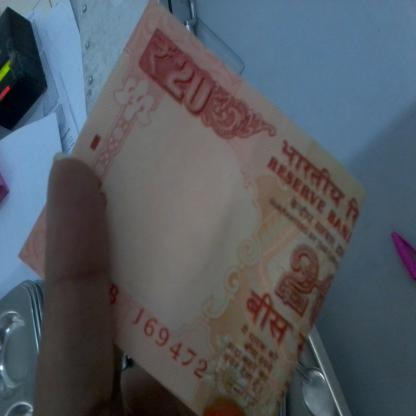Old20Front: (49, 4, 358, 409)
